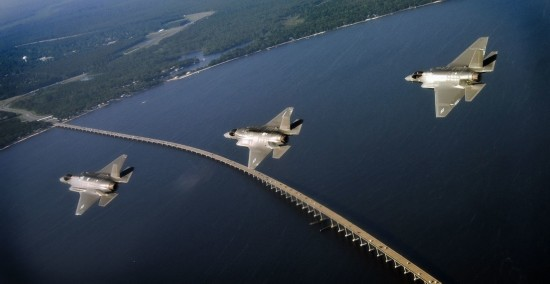airplane: (402, 37, 497, 119), (55, 149, 138, 217), (223, 105, 306, 169)
